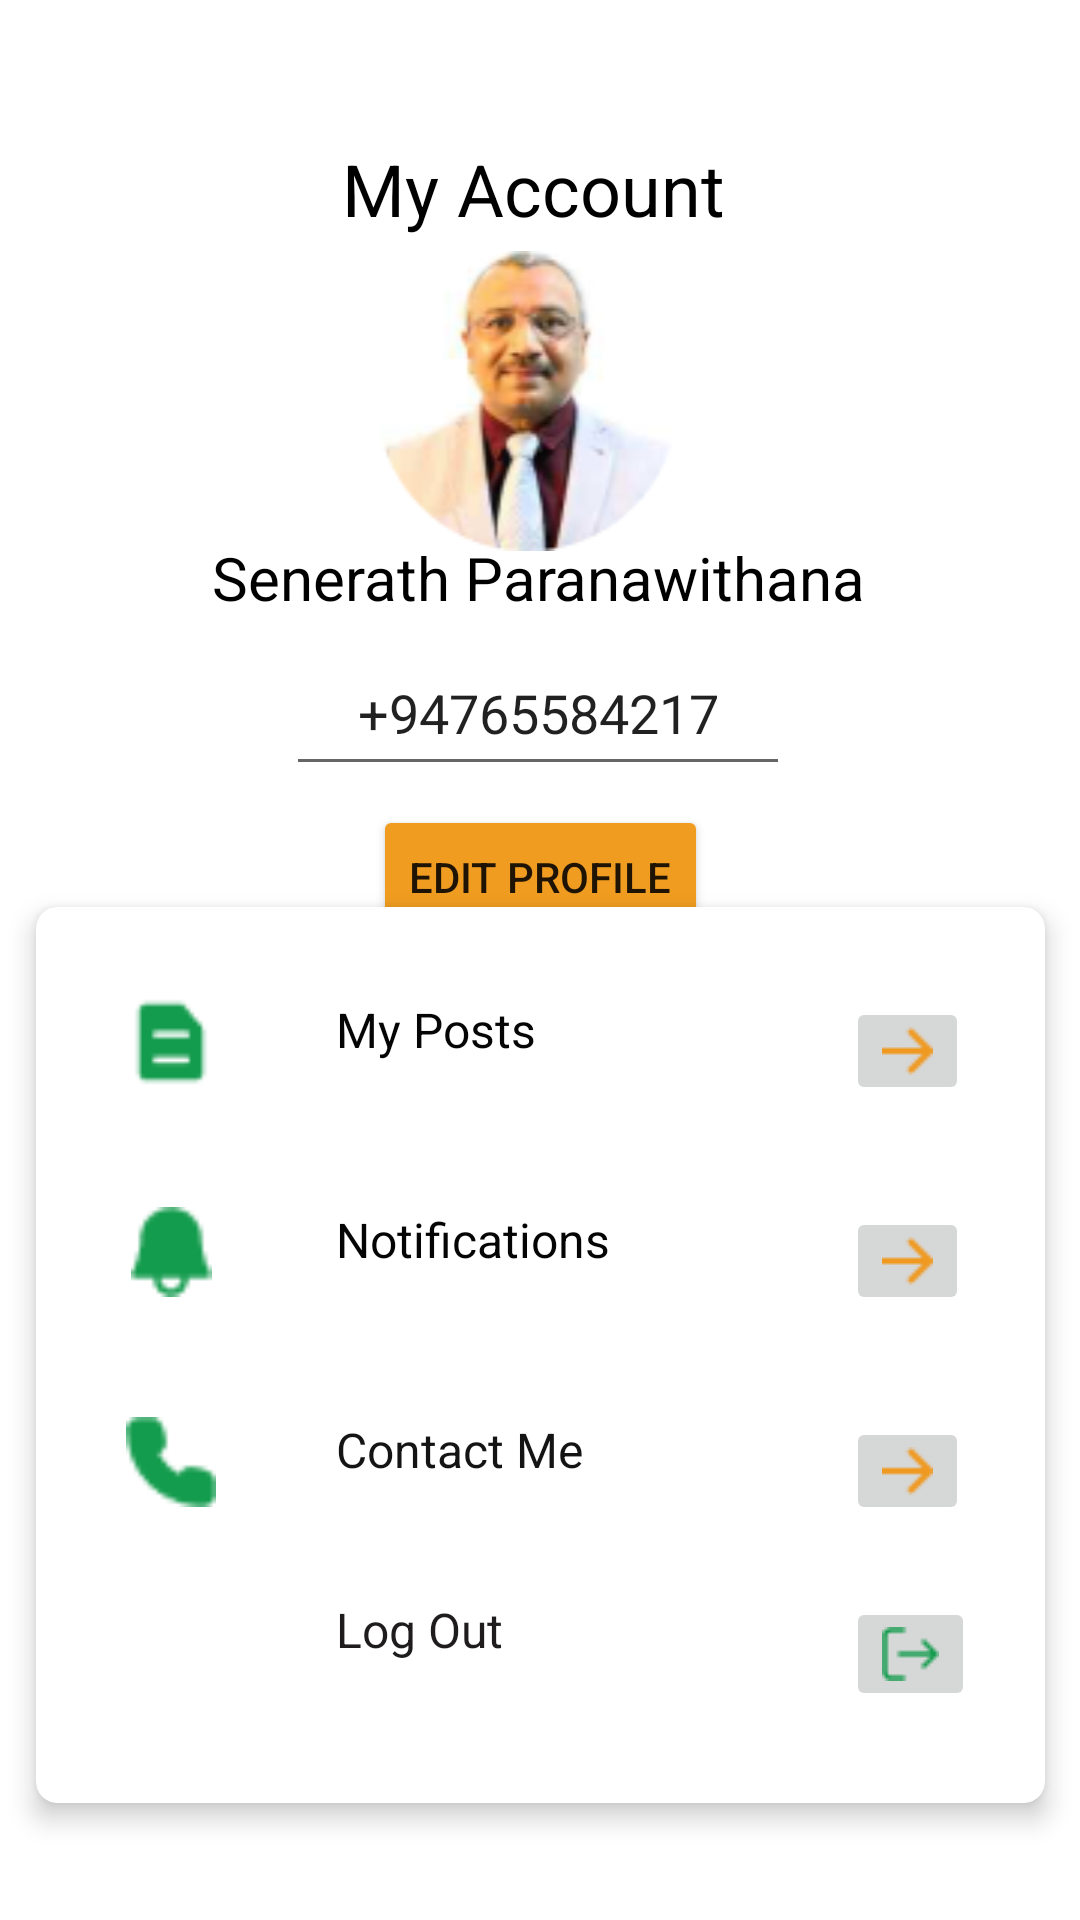

Icons on this 1080 x 1920 Android screen, each with its box as bbox=[x1, y1, x2, y2]:
arrow: bbox=[858, 1015, 957, 1087], bbox=[858, 1225, 957, 1297], bbox=[858, 1435, 957, 1507]
mylist: bbox=[136, 1001, 206, 1083]
original profile: bbox=[386, 251, 643, 551]
